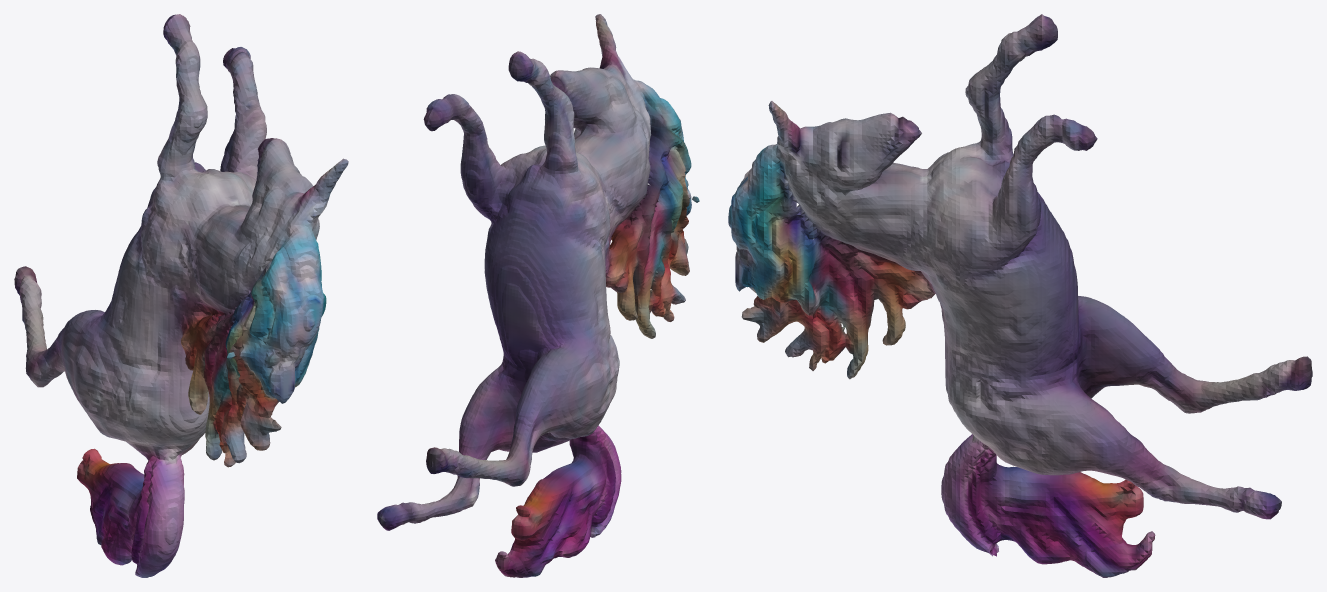
Rendered from unicorn.glb.
The picture shows the model from 3 angles, left to right: view 1: azimuth 30°, elevation 25°; view 2: azimuth 150°, elevation 25°; view 3: azimuth 270°, elevation 25°; orthographic projection. The views are drawn at different scales.
Visible parts, largest first — view 1: mesh; view 2: mesh; view 3: mesh.
Part boxes in pixels (left/top/right/bottom): mesh: left=14, top=14, right=348, bottom=577; mesh: left=377, top=14, right=699, bottom=577; mesh: left=728, top=14, right=1312, bottom=577.
Bounding box in the file's own units: 0.3729 × 1.07 × 0.9758.
